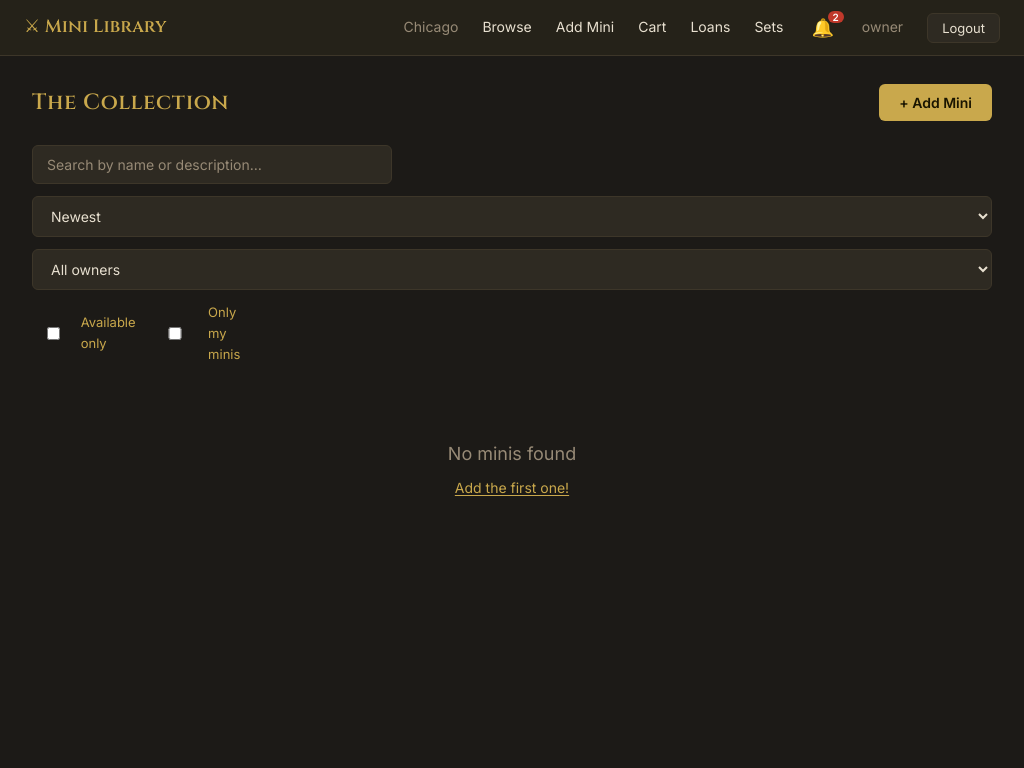
Test: App — nav bar › logs out: tells the server, clears the session, and returns to login
Click the button "Logout" at (964, 28), box [927, 12, 1000, 42]
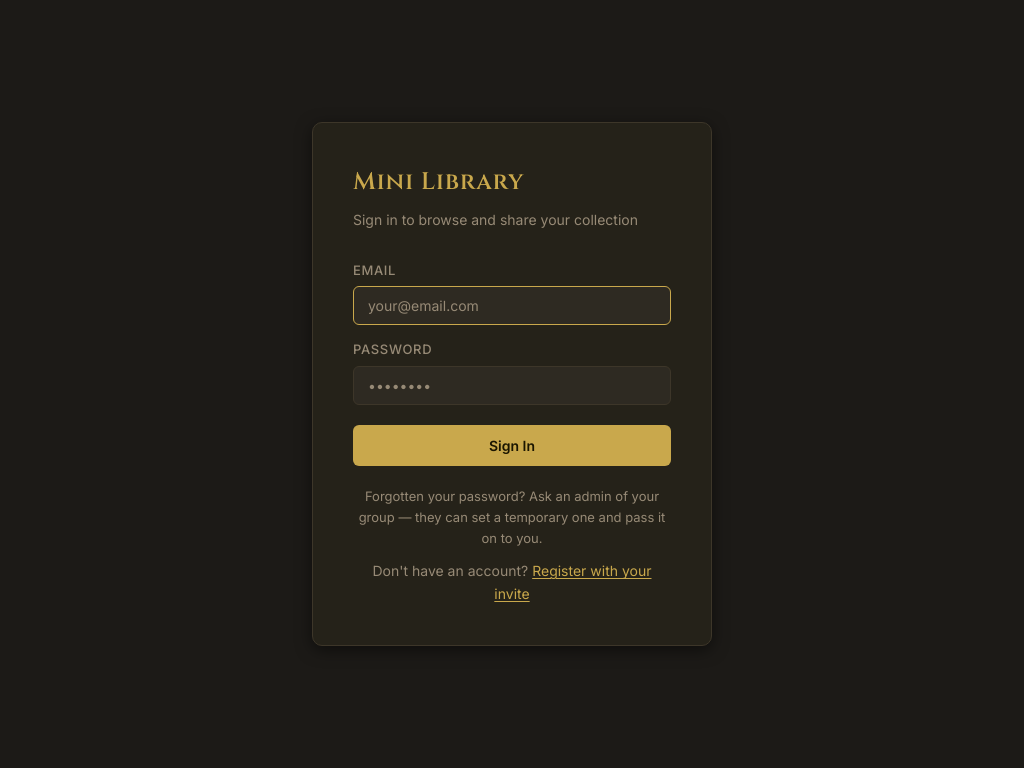
Check: the button "Sign In" is shown, box [353, 425, 671, 466]
Check: the link "owner" is gone
